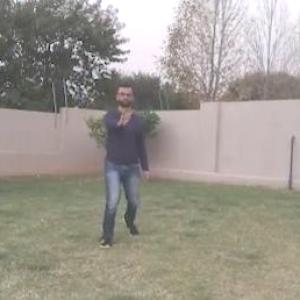takeoff-hand: (107, 107, 133, 133)
